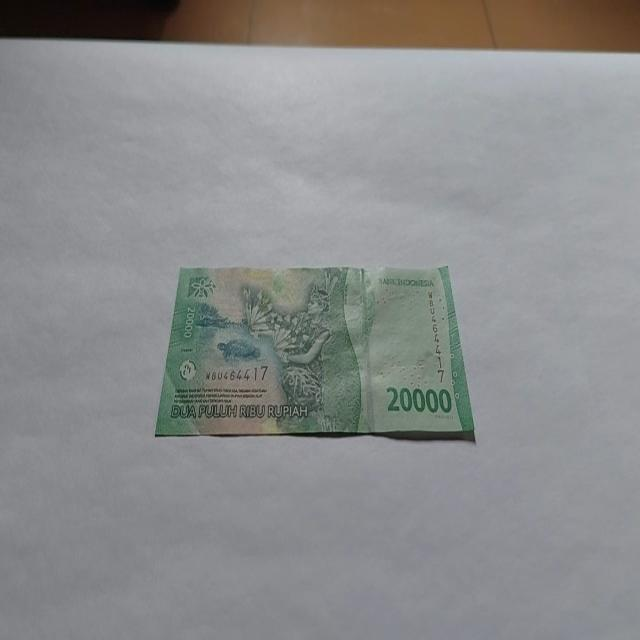dua puluh ribu rupiah: (154, 261, 476, 443)
